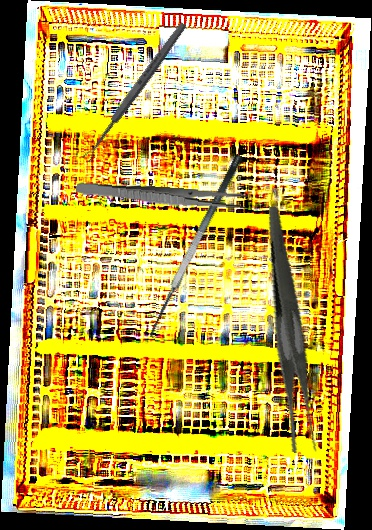Dressing Forceps: (224, 206, 361, 457), (75, 181, 249, 211)
Spatula Surgical: (140, 152, 260, 345)
Surgical Spoon: (80, 20, 189, 164)
